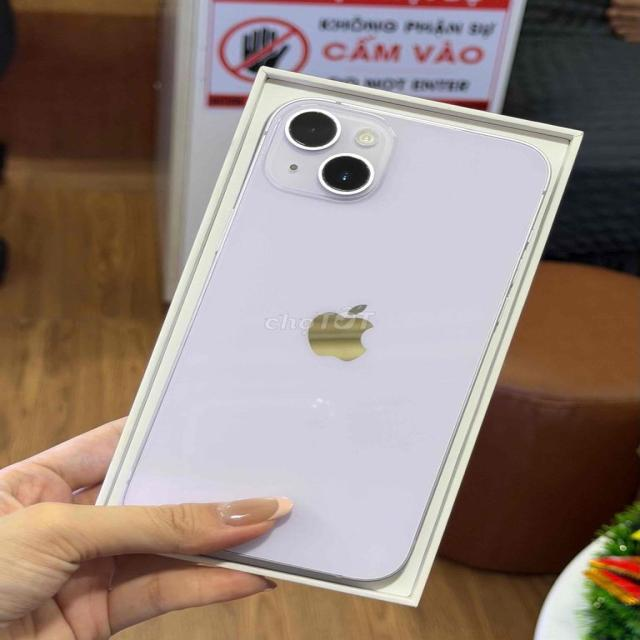gen_14: (106, 93, 555, 596)
